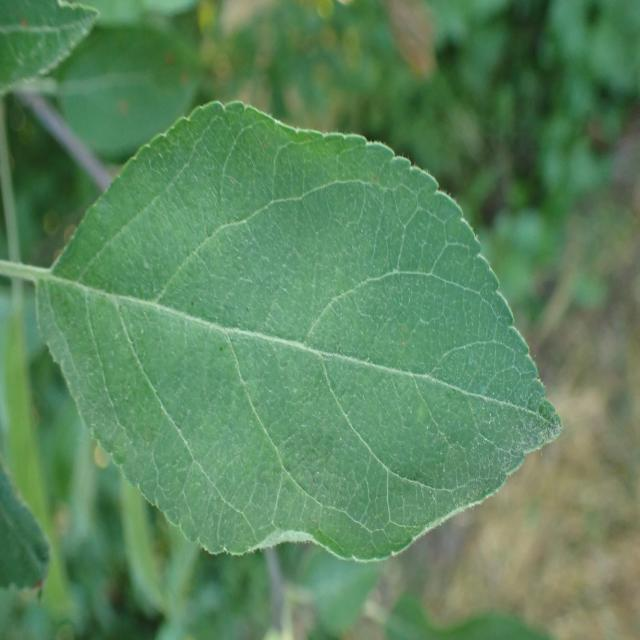healthy: (36, 99, 564, 563), (0, 0, 100, 95)
